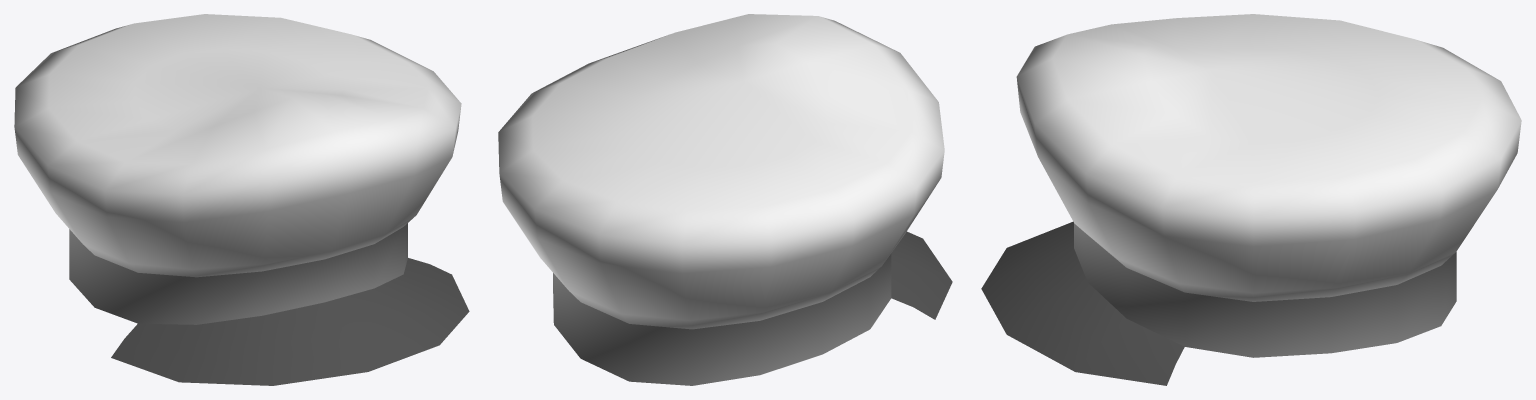
The model's file is authorityCap.glb.
3 renders of one model, left to right at view 1: azimuth 30°, elevation 25°; view 2: azimuth 150°, elevation 25°; view 3: azimuth 270°, elevation 25°, orthographic. The views are drawn at different scales.
Visible parts, largest first — view 1: AuthorityCap; view 2: AuthorityCap; view 3: AuthorityCap.
Boxes of the visible parts, box(x1,y1,x2,y2) form: AuthorityCap: box(14, 14, 469, 385); AuthorityCap: box(498, 14, 952, 385); AuthorityCap: box(981, 14, 1521, 385).
Size of the model in its own units: 11.89 by 6.79 by 13.5.
Materials: 1 (1 with a texture image).
